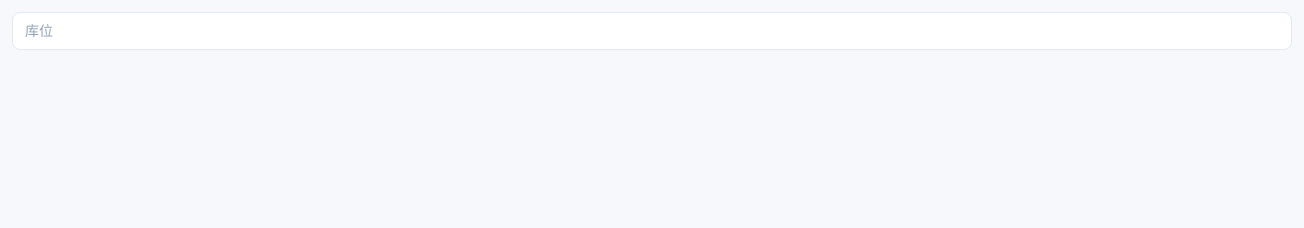
Test: SuggestInput（库位候选输入） › 输入内容过滤候选
Type "A-0" into the dropdown.
click(652, 31); type("A-0")  # box 12,12 -> 1292,50
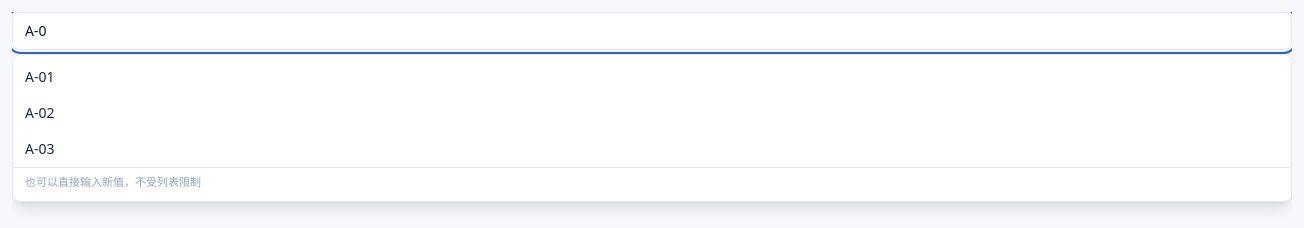
Check: the number of options is 3, box 25,67 -> 54,86; 25,103 -> 54,122; 25,139 -> 54,158
Check: the options read "A-01", "A-02", "A-03", in this order, box 25,67 -> 54,86; 25,103 -> 54,122; 25,139 -> 54,158
